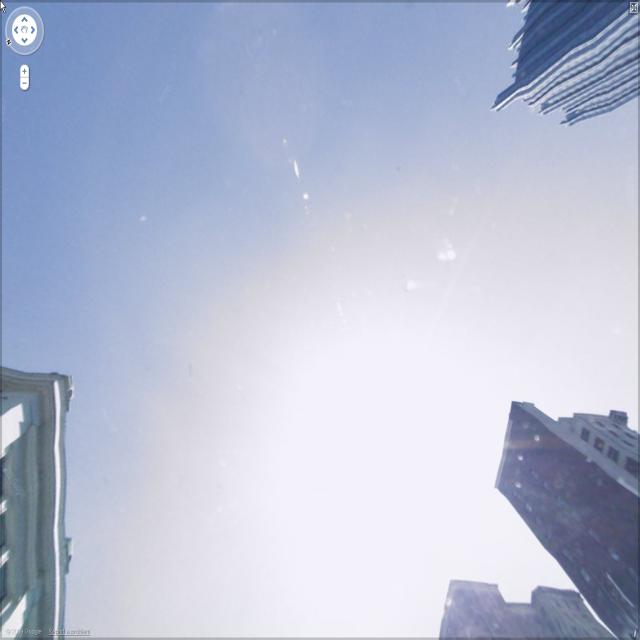b_1: (506, 391, 640, 610), (1, 366, 82, 633), (495, 2, 640, 122), (441, 587, 617, 635)
